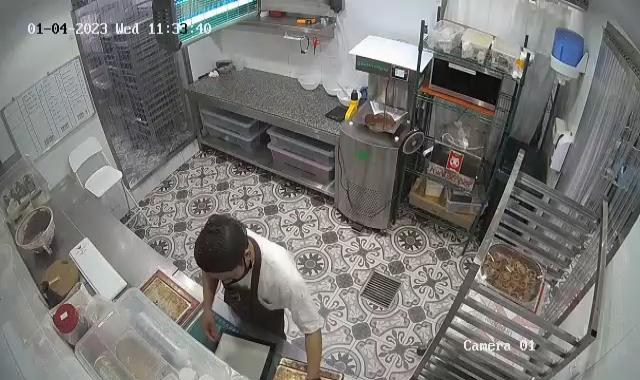no_hairnet: (194, 214, 253, 274)
